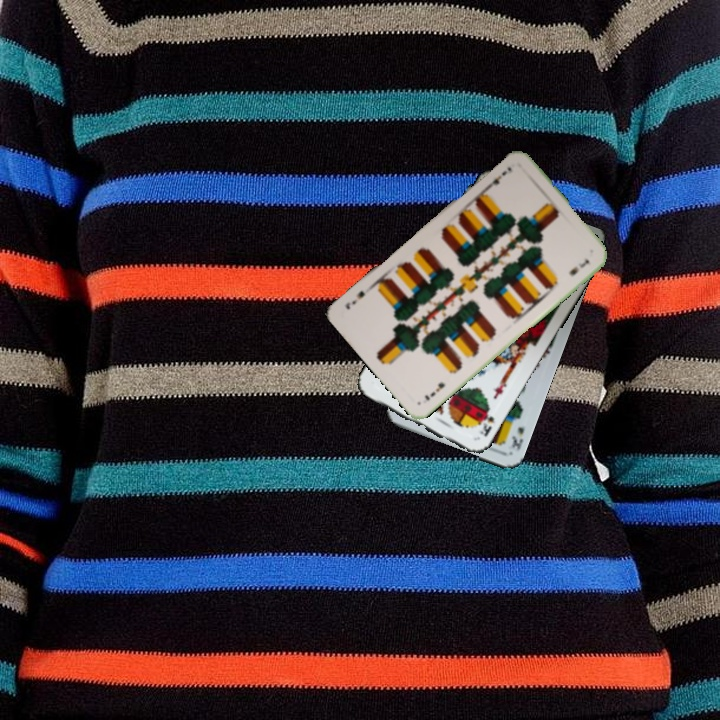E7: (483, 162, 515, 192), (420, 378, 447, 403)
EK: (507, 423, 527, 453)
SK: (475, 405, 497, 439)
